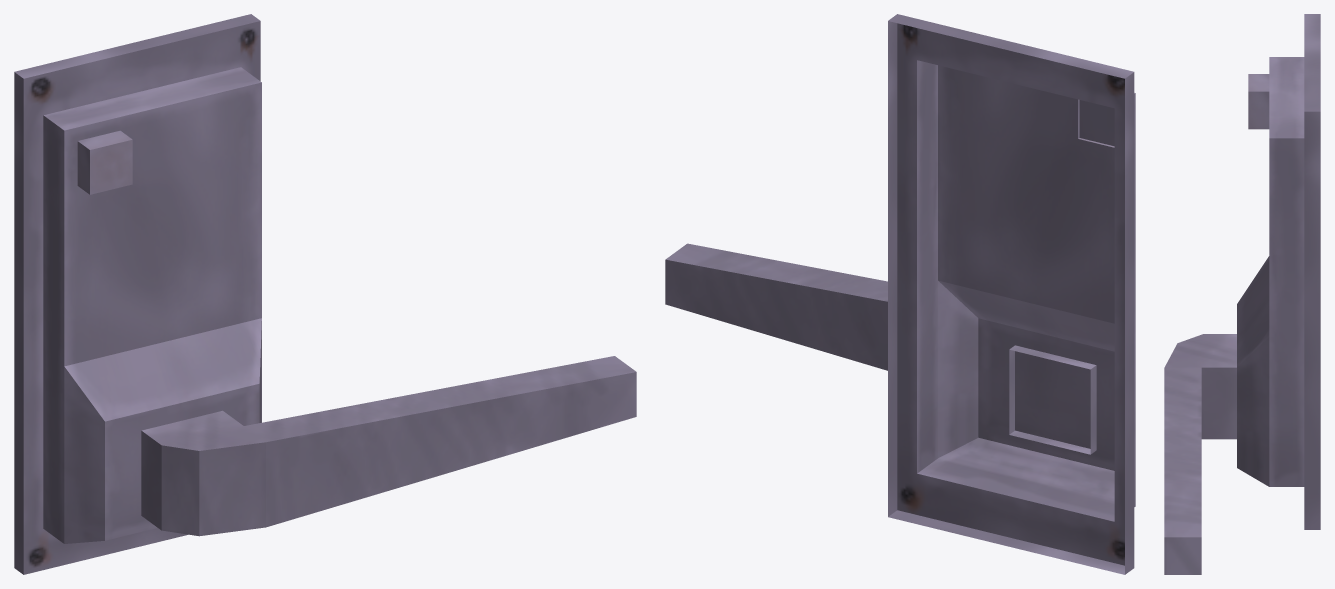
File: codeLocks.fbx
The picture shows the model from 3 angles, left to right: view 1: azimuth 30°, elevation 25°; view 2: azimuth 150°, elevation 25°; view 3: azimuth 270°, elevation 25°; orthographic projection. The views are drawn at different scales.
Visible parts, largest first — view 1: codeLock_1, codeLockHolder_1, codeLockButton_1; view 2: codeLock_1, codeLockHolder_1; view 3: codeLock_1, codeLockHolder_1, codeLockButton_1.
Boxes of the visible parts, x1,y1,x2,y2 form: codeLock_1: (14, 14, 261, 574); codeLockHolder_1: (141, 356, 636, 536); codeLockButton_1: (77, 130, 132, 194); codeLock_1: (888, 14, 1135, 574); codeLockHolder_1: (665, 243, 1096, 454); codeLock_1: (1237, 14, 1320, 529); codeLockHolder_1: (1164, 334, 1236, 574); codeLockButton_1: (1248, 74, 1269, 129).
Size of the model in its own units: 322 by 288 by 97.32.
1 material, 1 textured.
